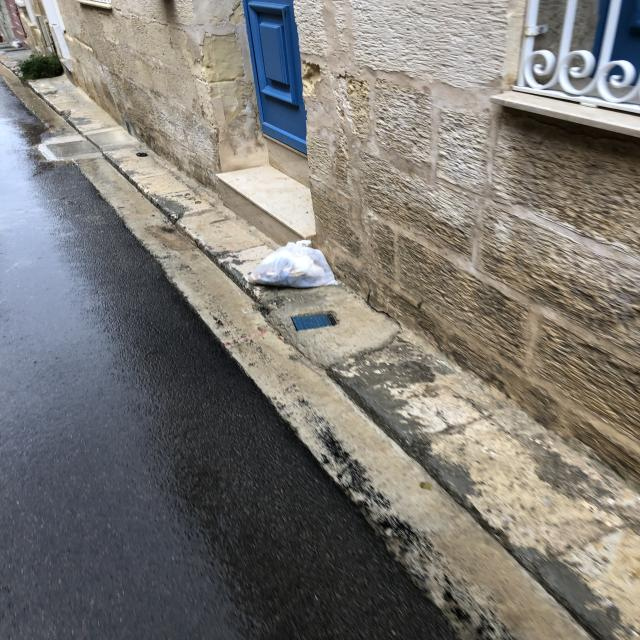Organic Waste -White Bag-: (235, 236, 340, 294)
